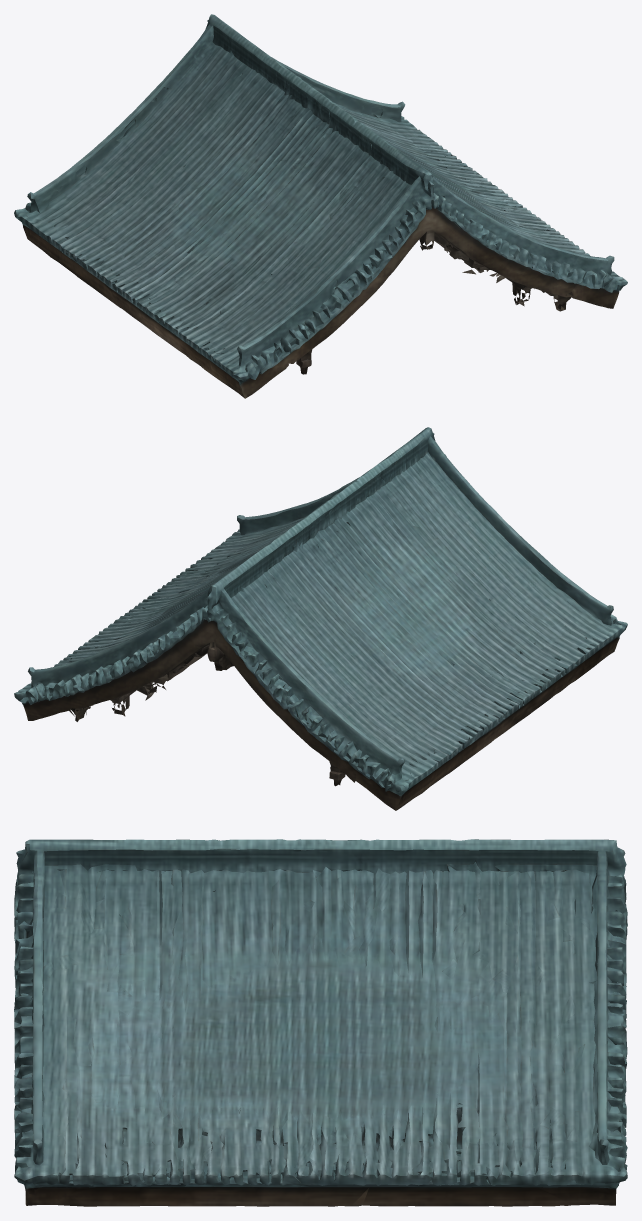
Rendered from ARCH-012-clean.glb.
The picture shows the model from 3 angles, top to bottom: view 1: azimuth 30°, elevation 25°; view 2: azimuth 150°, elevation 25°; view 3: azimuth 270°, elevation 25°; orthographic projection. The views are drawn at different scales.
Bounding box in the file's own units: 4.5 × 2.05 × 4.51.
6 materials, 6 textured.
